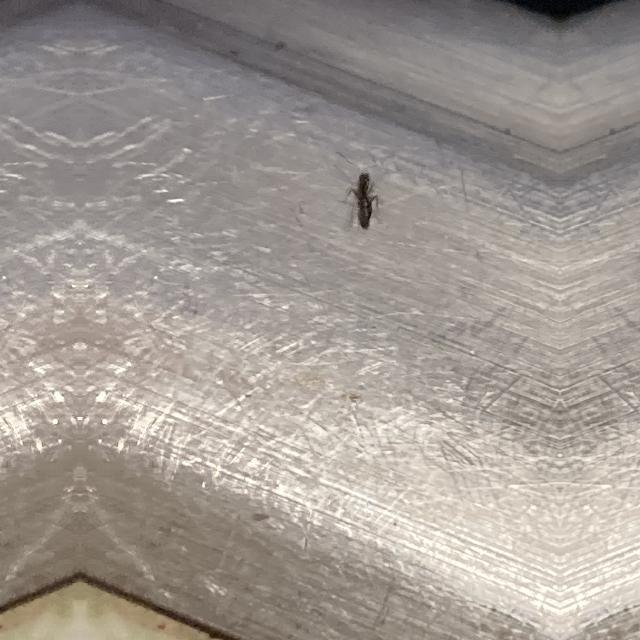Tapinoma: (344, 166, 380, 234)
